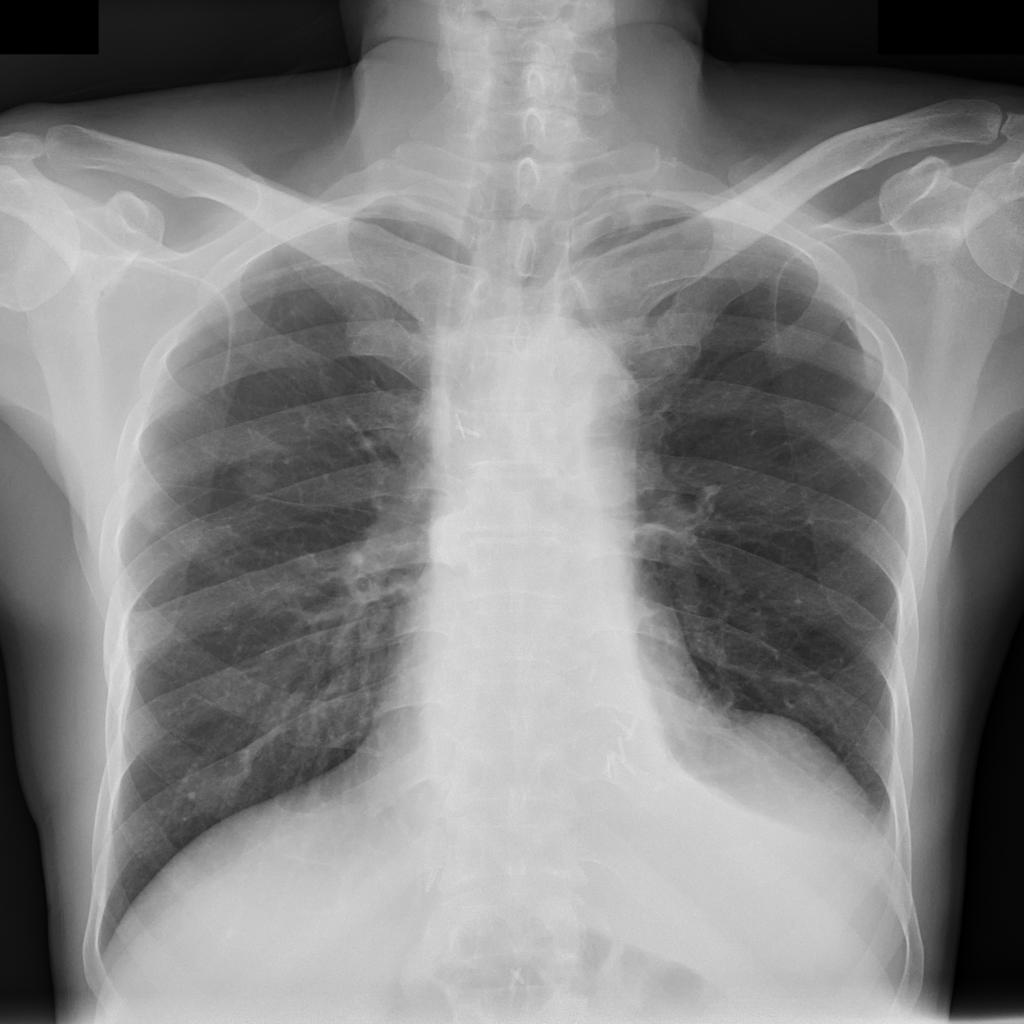Nodule: (236, 465, 279, 503)
